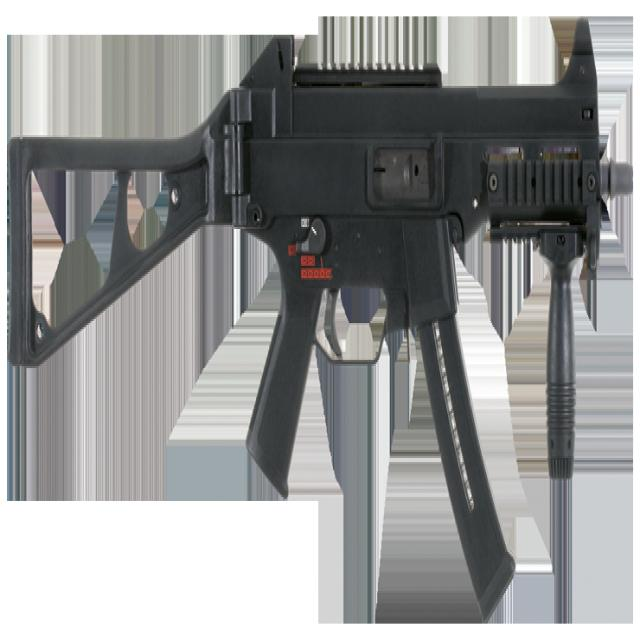HandGun: (8, 22, 603, 620)
